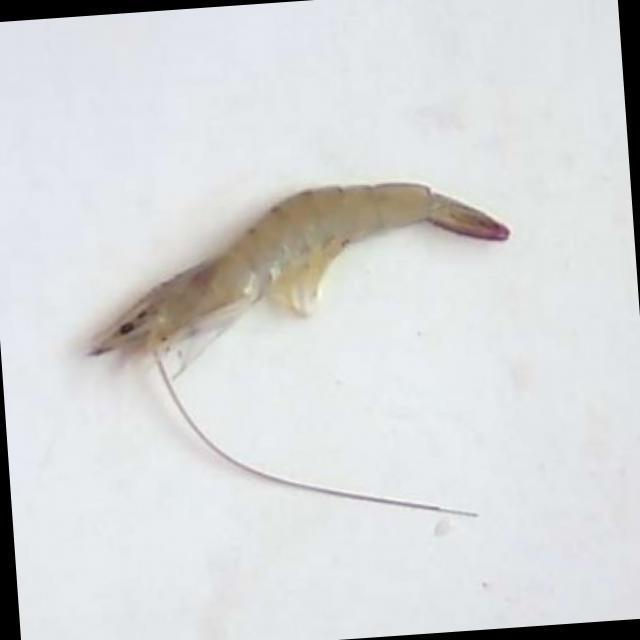shrimp: (91, 183, 510, 355)
